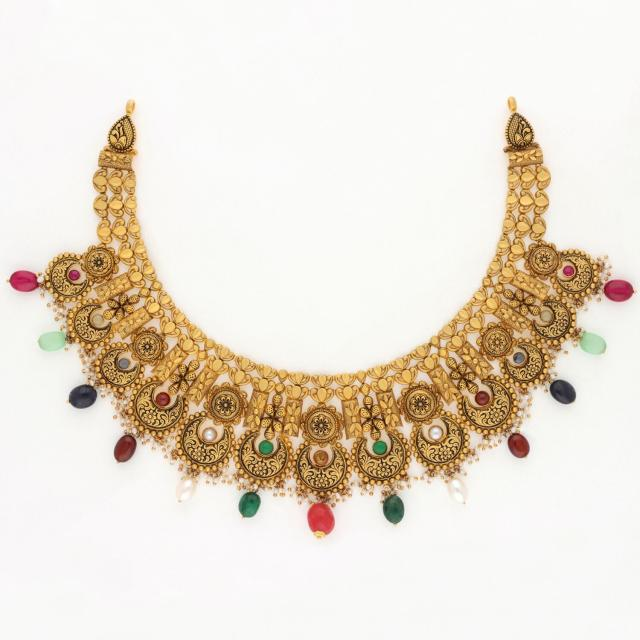missing gem: (314, 451, 328, 464)
